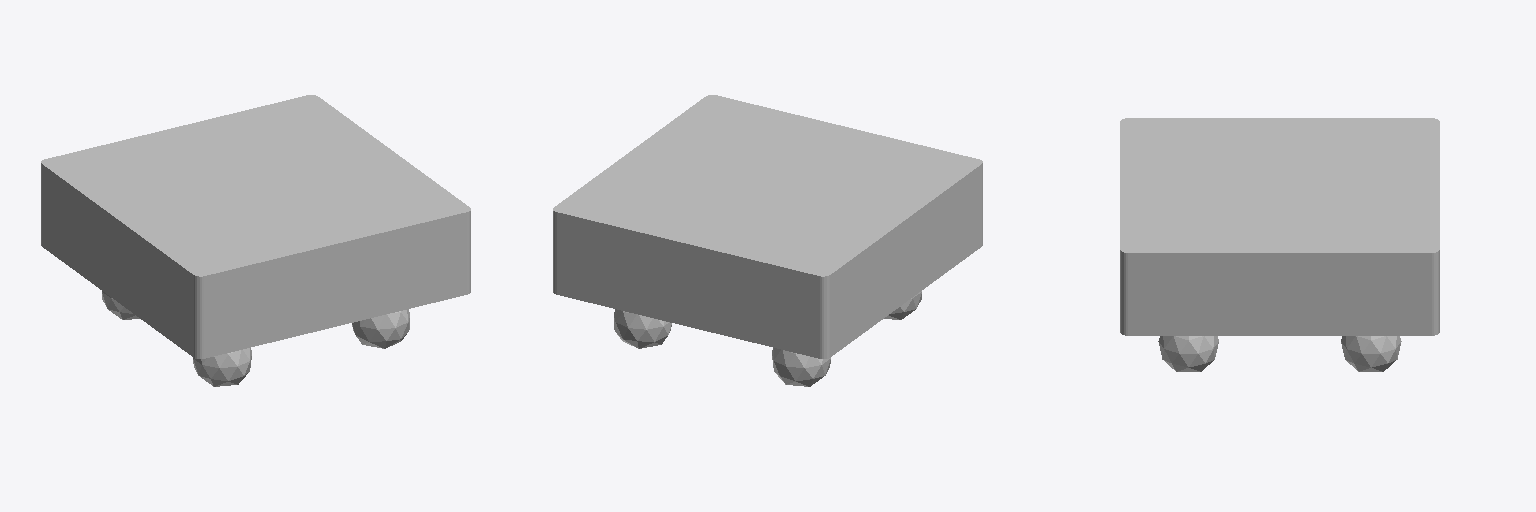
Rendered from goban.obj.
3 renders of one model, left to right at view 1: azimuth 30°, elevation 25°; view 2: azimuth 150°, elevation 25°; view 3: azimuth 270°, elevation 25°, orthographic.
Visible parts, largest first — view 1: Cube; view 2: Cube; view 3: Cube.
Boxes of the visible parts, x1,y1,x2,y2 form: Cube: [41, 95, 470, 386]; Cube: [553, 95, 982, 386]; Cube: [1120, 118, 1439, 371].
Bounding box in the file's own units: 39.9 × 19.38 × 39.9.